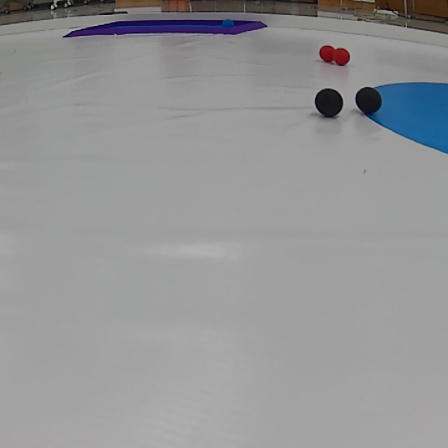black: (352, 86, 384, 117), (314, 89, 346, 119)
blue_aim: (58, 18, 275, 39)
blue_base: (363, 83, 448, 156)
red: (328, 50, 352, 67), (317, 44, 334, 63)
